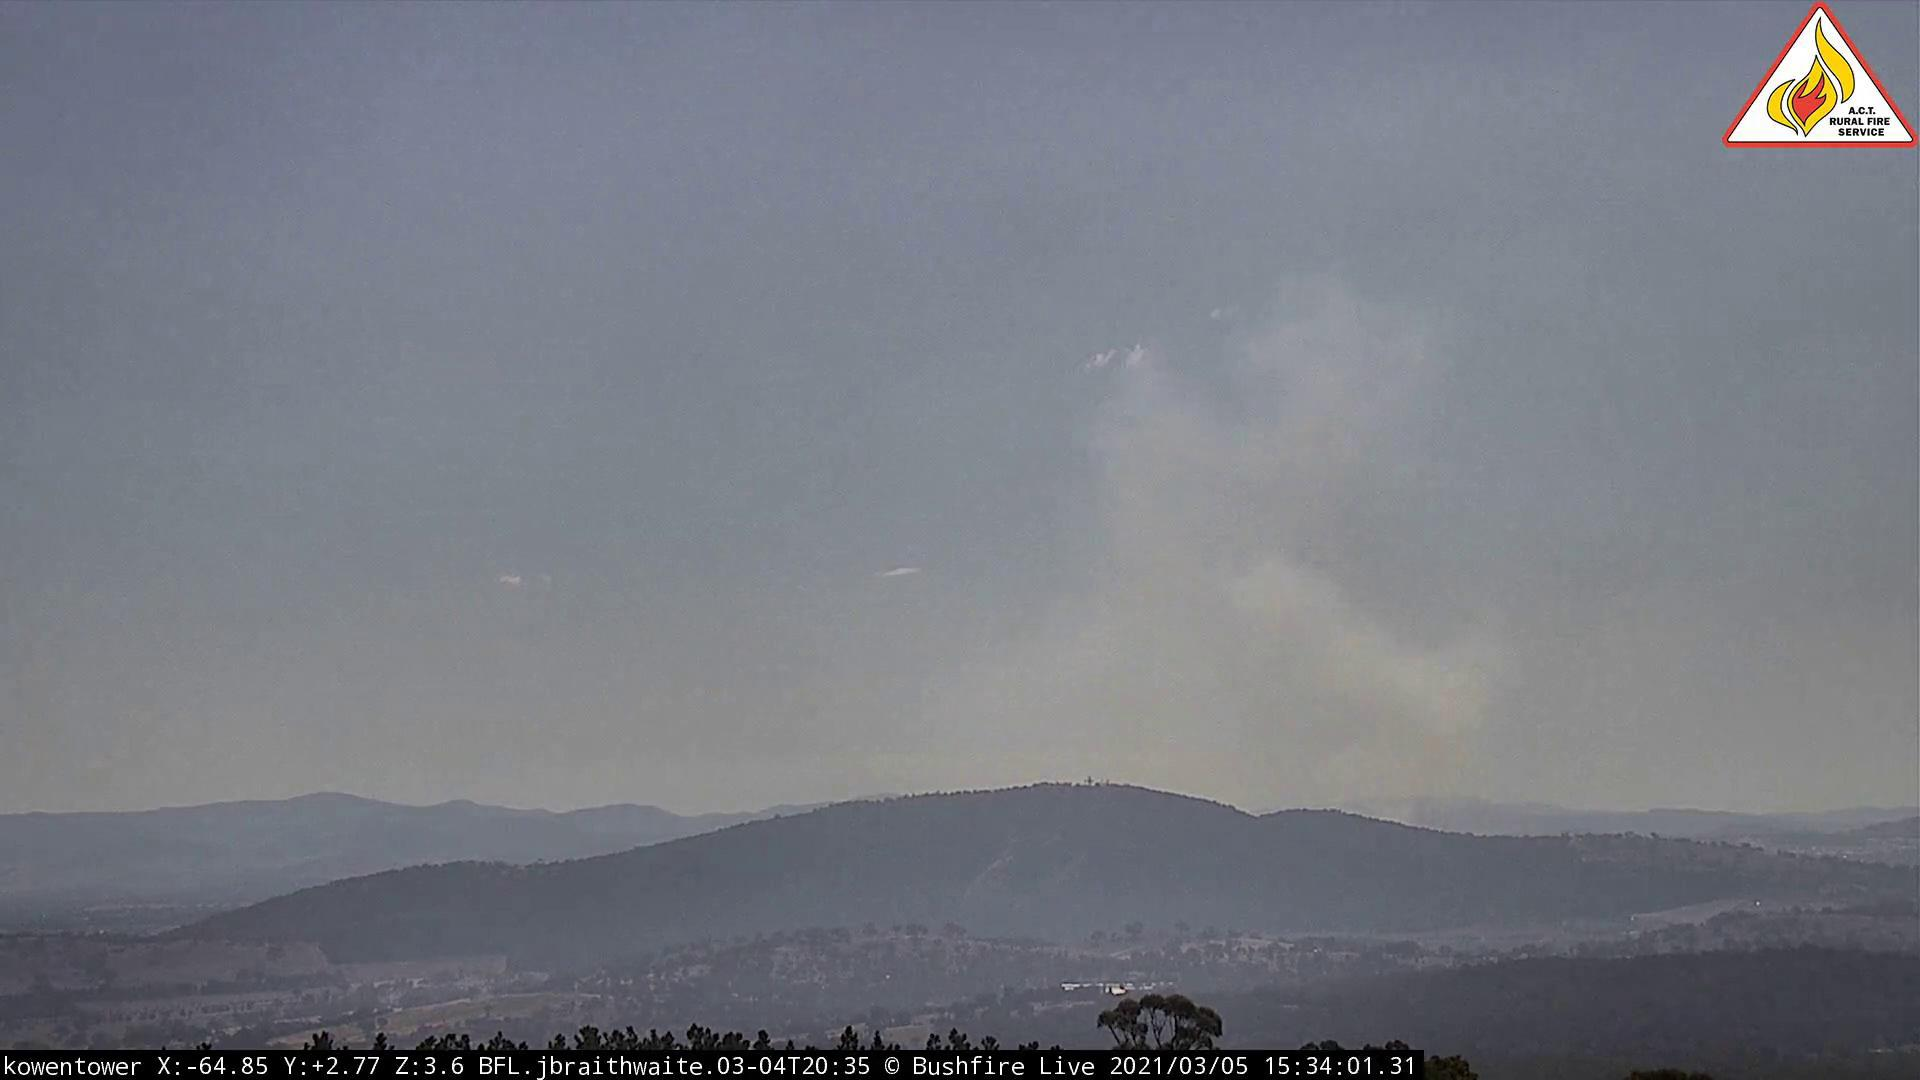instance_salient_object: (880, 274, 1519, 835)
